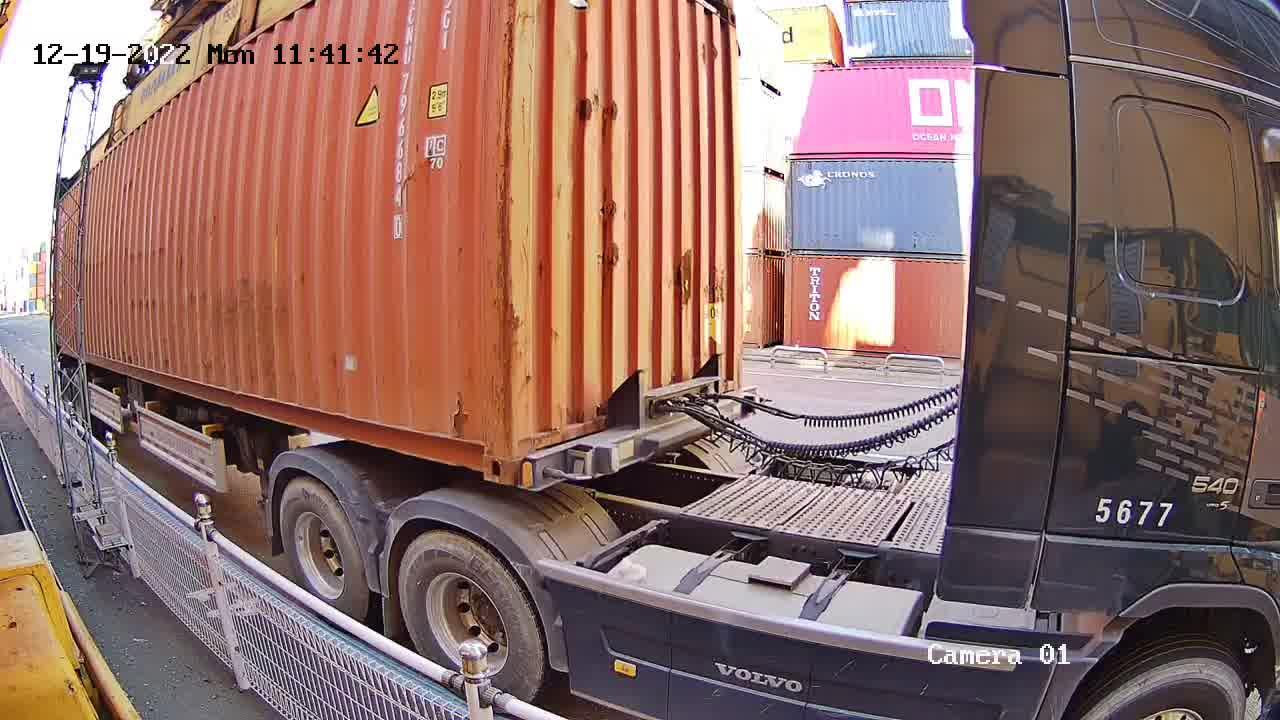Chassis: (517, 388, 765, 493)
Hole_R: (458, 421, 514, 485)
Tire: (400, 534, 540, 699), (279, 480, 363, 611)
